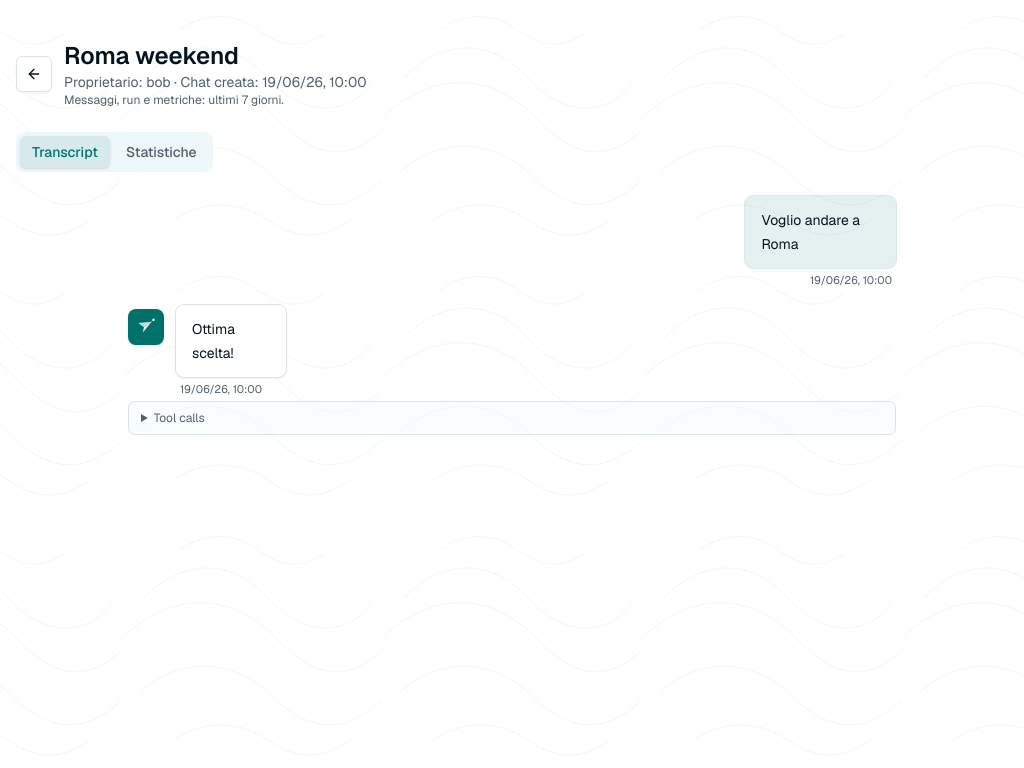
it: switching to the Statistiche tab shows the per-run table
The width and height of the screenshot is (1024, 768).
expect the text "Voglio andare a Roma" is shown: met, box 745,196 -> 896,268
What coordinates should you click on to do the following:
click the button "Statistiche"
I would click on:
 (161, 152)
Its box is 114,136 -> 209,168.
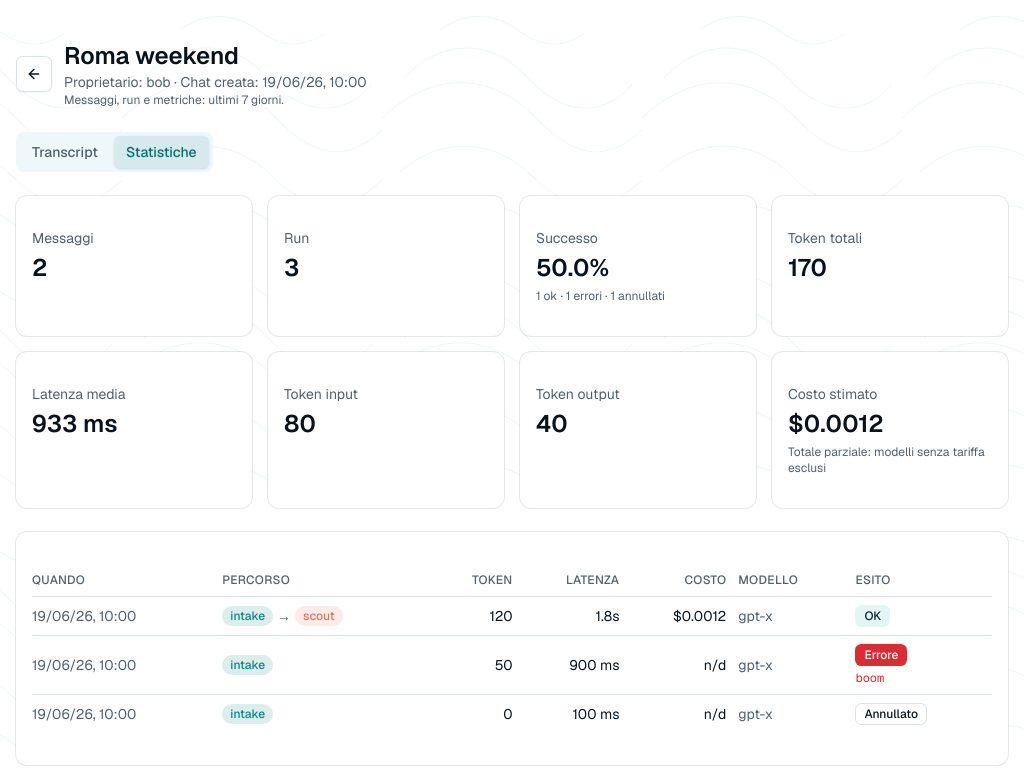
expect the column heading "Modello" is shown: met, box 738,564 -> 856,596
expect the text "gpt-x" in the row of "scout" is shown: met, box 738,607 -> 773,625
expect the text "$0.0012" is shown: met, box 788,408 -> 884,439
